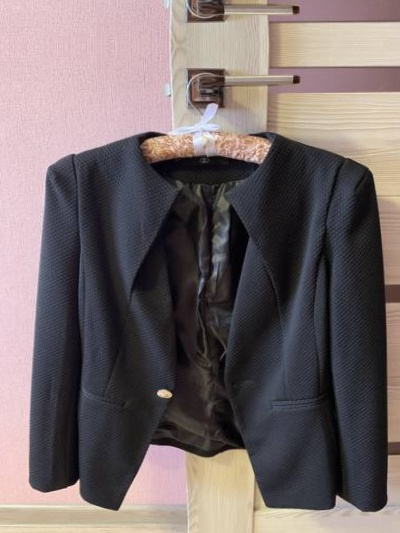Blazer: (16, 113, 400, 518)
